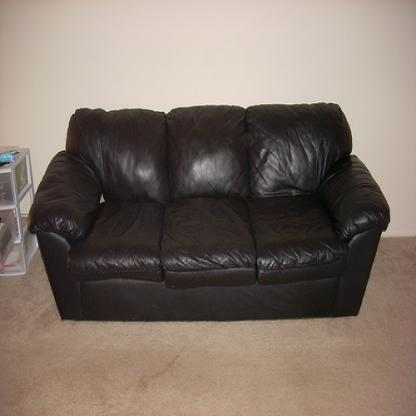sofa: (27, 103, 390, 322)
